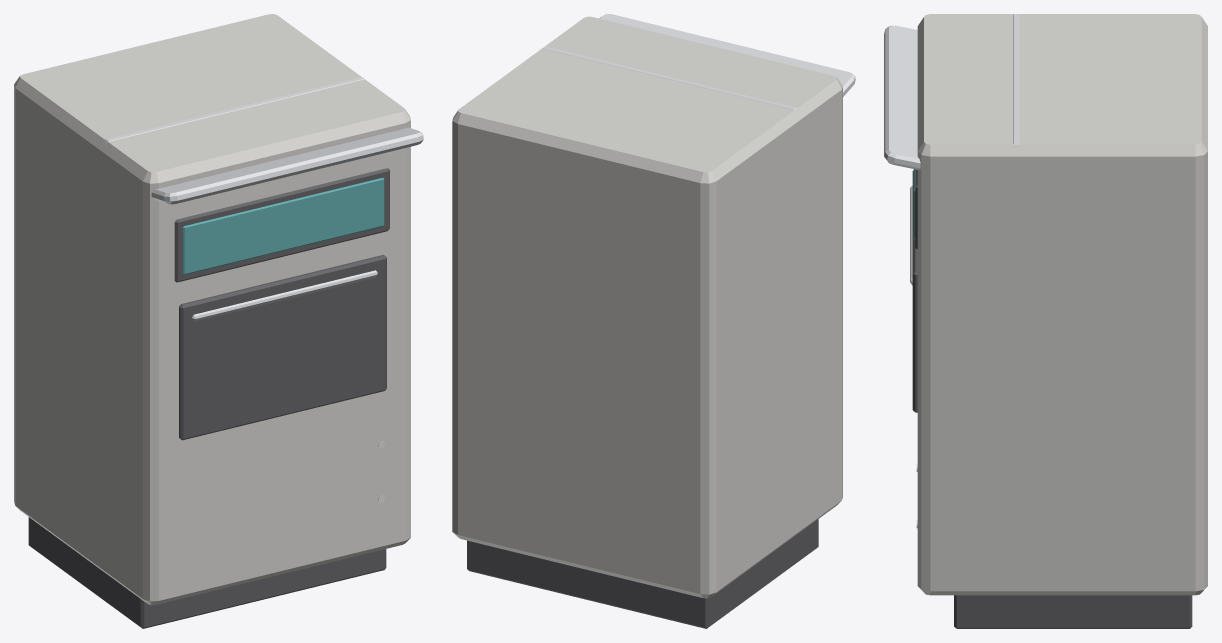
The model's file is fast-food-and-drive-thru-waste-unit-flap-open-a0885c2f__16214.glb.
3 views of the same model, side by side, from view 1: azimuth 30°, elevation 25°; view 2: azimuth 150°, elevation 25°; view 3: azimuth 270°, elevation 25° (orthographic). The views are drawn at different scales.
Parts seen in each view (by area): view 1: waste-unit-flap-open, waste-flap; view 2: waste-unit-flap-open; view 3: waste-unit-flap-open.
Part boxes in pixels (bbox=[...]): waste-unit-flap-open: bbox=[14, 14, 423, 628]; waste-flap: bbox=[192, 270, 377, 321]; waste-unit-flap-open: bbox=[452, 14, 855, 628]; waste-unit-flap-open: bbox=[884, 14, 1207, 628].
Bounding box in the file's own units: 0.62 × 1.04 × 0.6251.
